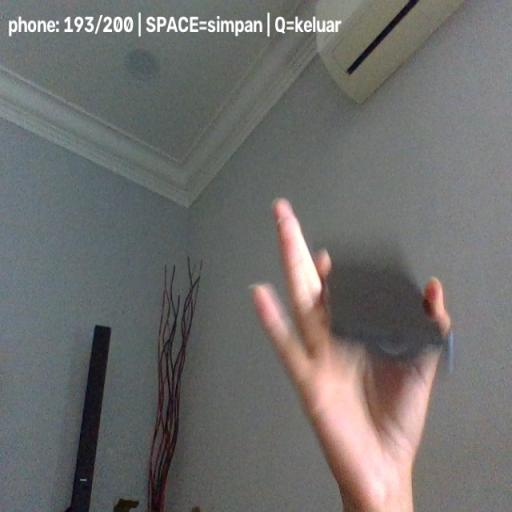Phone: (321, 258, 455, 367)
